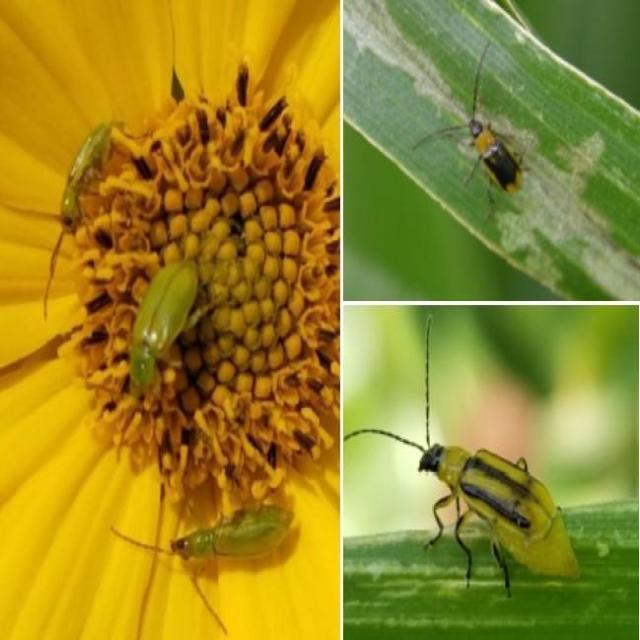gusano_gris: (106, 484, 326, 594), (125, 245, 206, 400), (50, 110, 128, 222)
trips: (409, 382, 586, 608), (416, 45, 542, 216)
